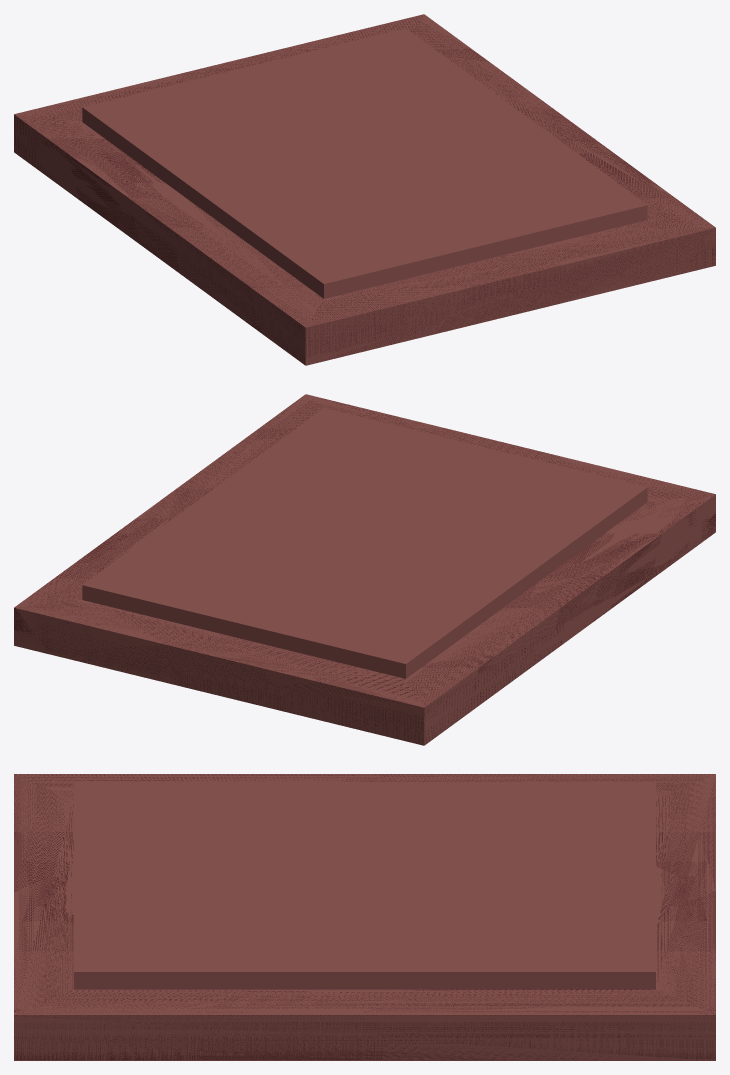
The picture shows the model from 3 angles, top to bottom: view 1: azimuth 30°, elevation 25°; view 2: azimuth 150°, elevation 25°; view 3: azimuth 270°, elevation 25°; orthographic projection. The views are drawn at different scales.
Parts seen in each view (by area): view 1: picture acute s mir oacute; view 2: picture acute s mir oacute; view 3: picture acute s mir oacute.
Boxes of the visible parts, box(x1,y1,x2,y2) form: picture acute s mir oacute: box(14, 14, 715, 365); picture acute s mir oacute: box(14, 394, 715, 745); picture acute s mir oacute: box(14, 774, 715, 1060).
Bounding box in the file's own units: 50.75 × 6.25 × 62.5.
